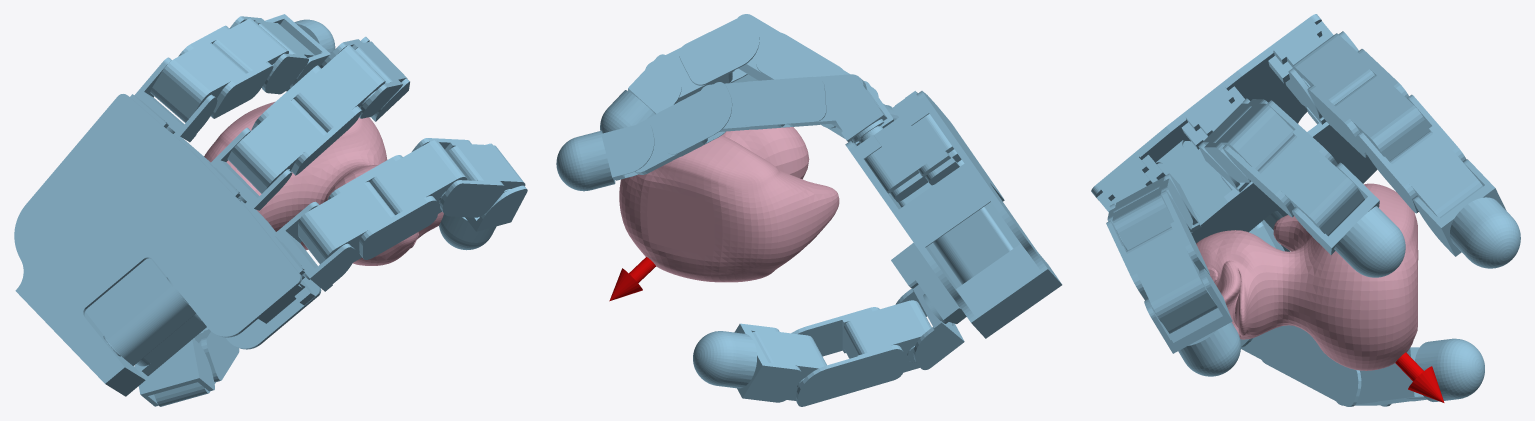
3 renders of one model, left to right at view 1: azimuth 30°, elevation 25°; view 2: azimuth 150°, elevation 25°; view 3: azimuth 270°, elevation 25°, orthographic. The views are drawn at different scales.
Parts seen in each view (by area): view 1: world, rubber_duck.stl; view 2: world, rubber_duck.stl; view 3: world, rubber_duck.stl.
Part boxes in pixels (x1,y1,x2,y2): world: [14, 14, 527, 406]; rubber_duck.stl: [204, 101, 443, 265]; world: [556, 14, 1062, 406]; rubber_duck.stl: [619, 127, 839, 282]; world: [1091, 14, 1520, 406]; rubber_duck.stl: [1196, 183, 1418, 370].
Size of the model in its own units: 0.2184 by 0.1579 by 0.1694.
